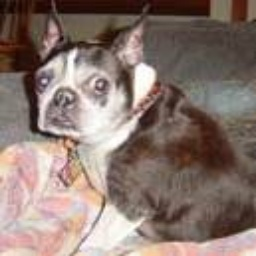dog: (25, 10, 256, 236)
